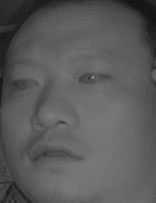eye: (76, 65, 111, 89), (9, 73, 42, 94)
mouth: (26, 135, 84, 168)
